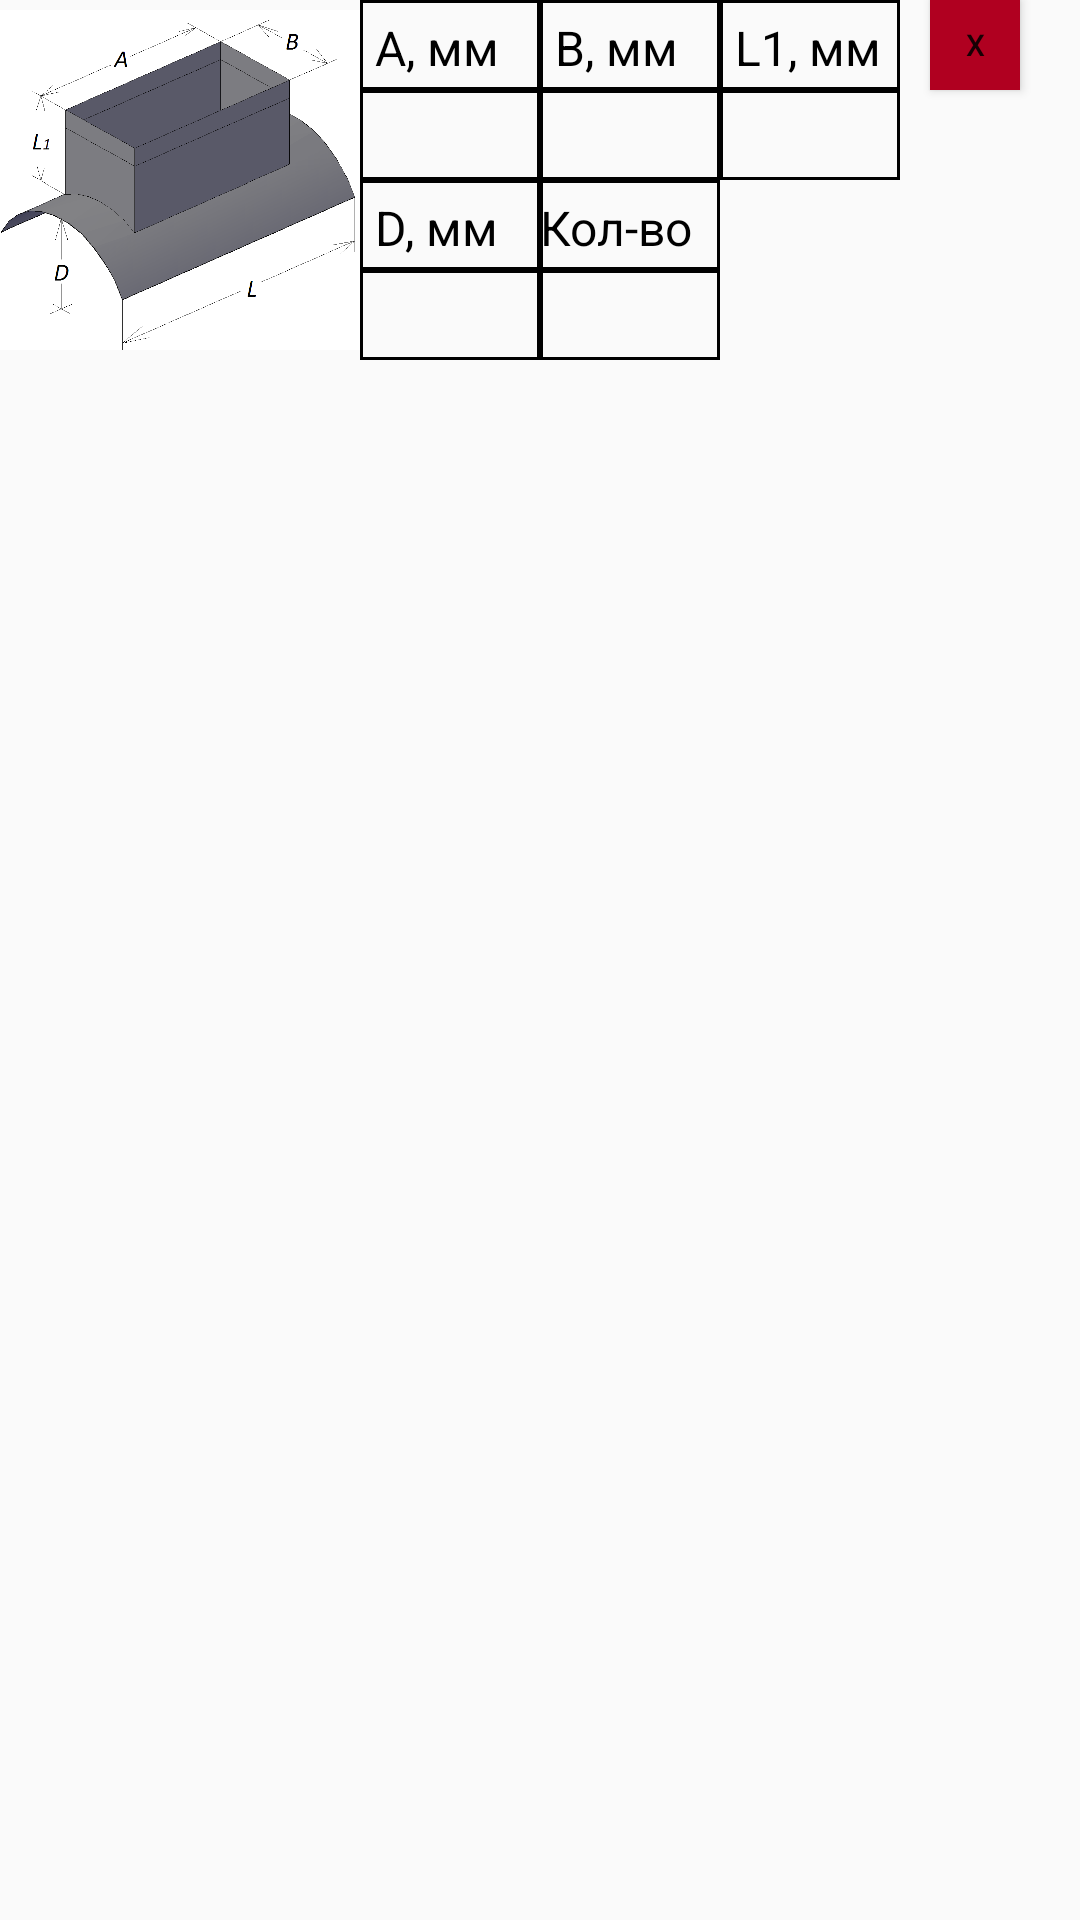

Where icons sit on this 1080 x 1920 app screen, as {"x1": x1, "y1": y1, "x2": x2, "y2": y2}:
incut collar rectangular correction: {"x1": 1, "y1": 20, "x2": 355, "y2": 350}
